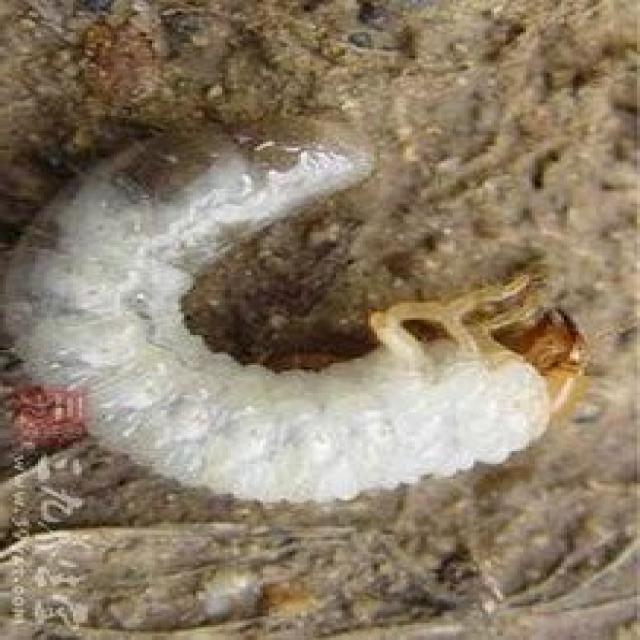grub: (4, 110, 600, 529)
